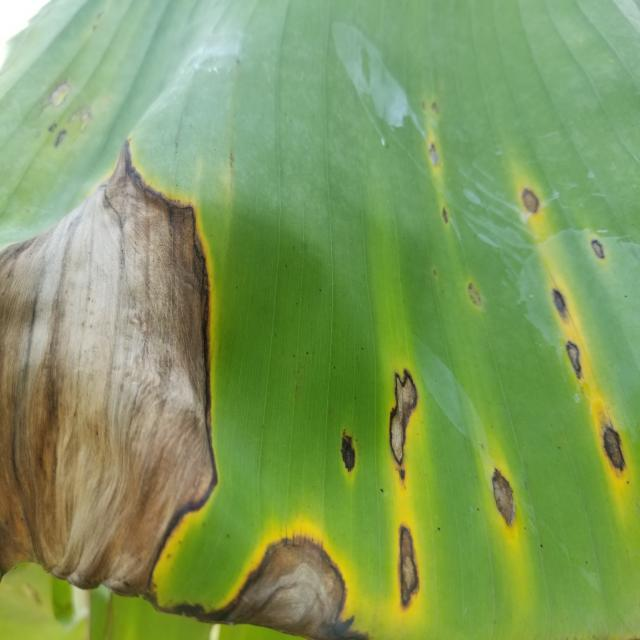Early_rust: (0, 109, 640, 640)
